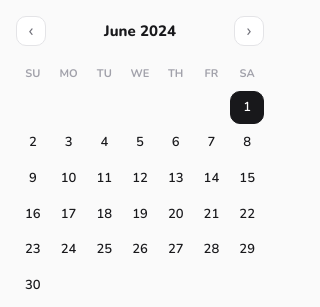
Test case: Calendar › navigates to the next month when Next month is clicked
The width and height of the screenshot is (320, 307).
Step 1. Click the button named "Next month" → (249, 31), box [234,16,264,46]
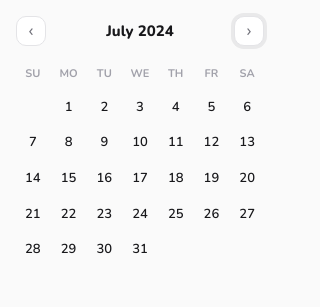
Result: the text "July 2024" is shown at [106,20,174,42]
